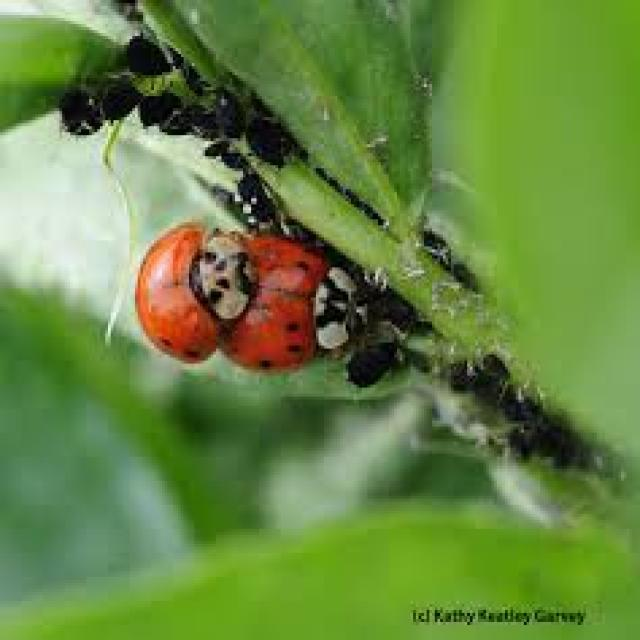ladybug: (135, 222, 354, 370), (135, 222, 254, 361)
